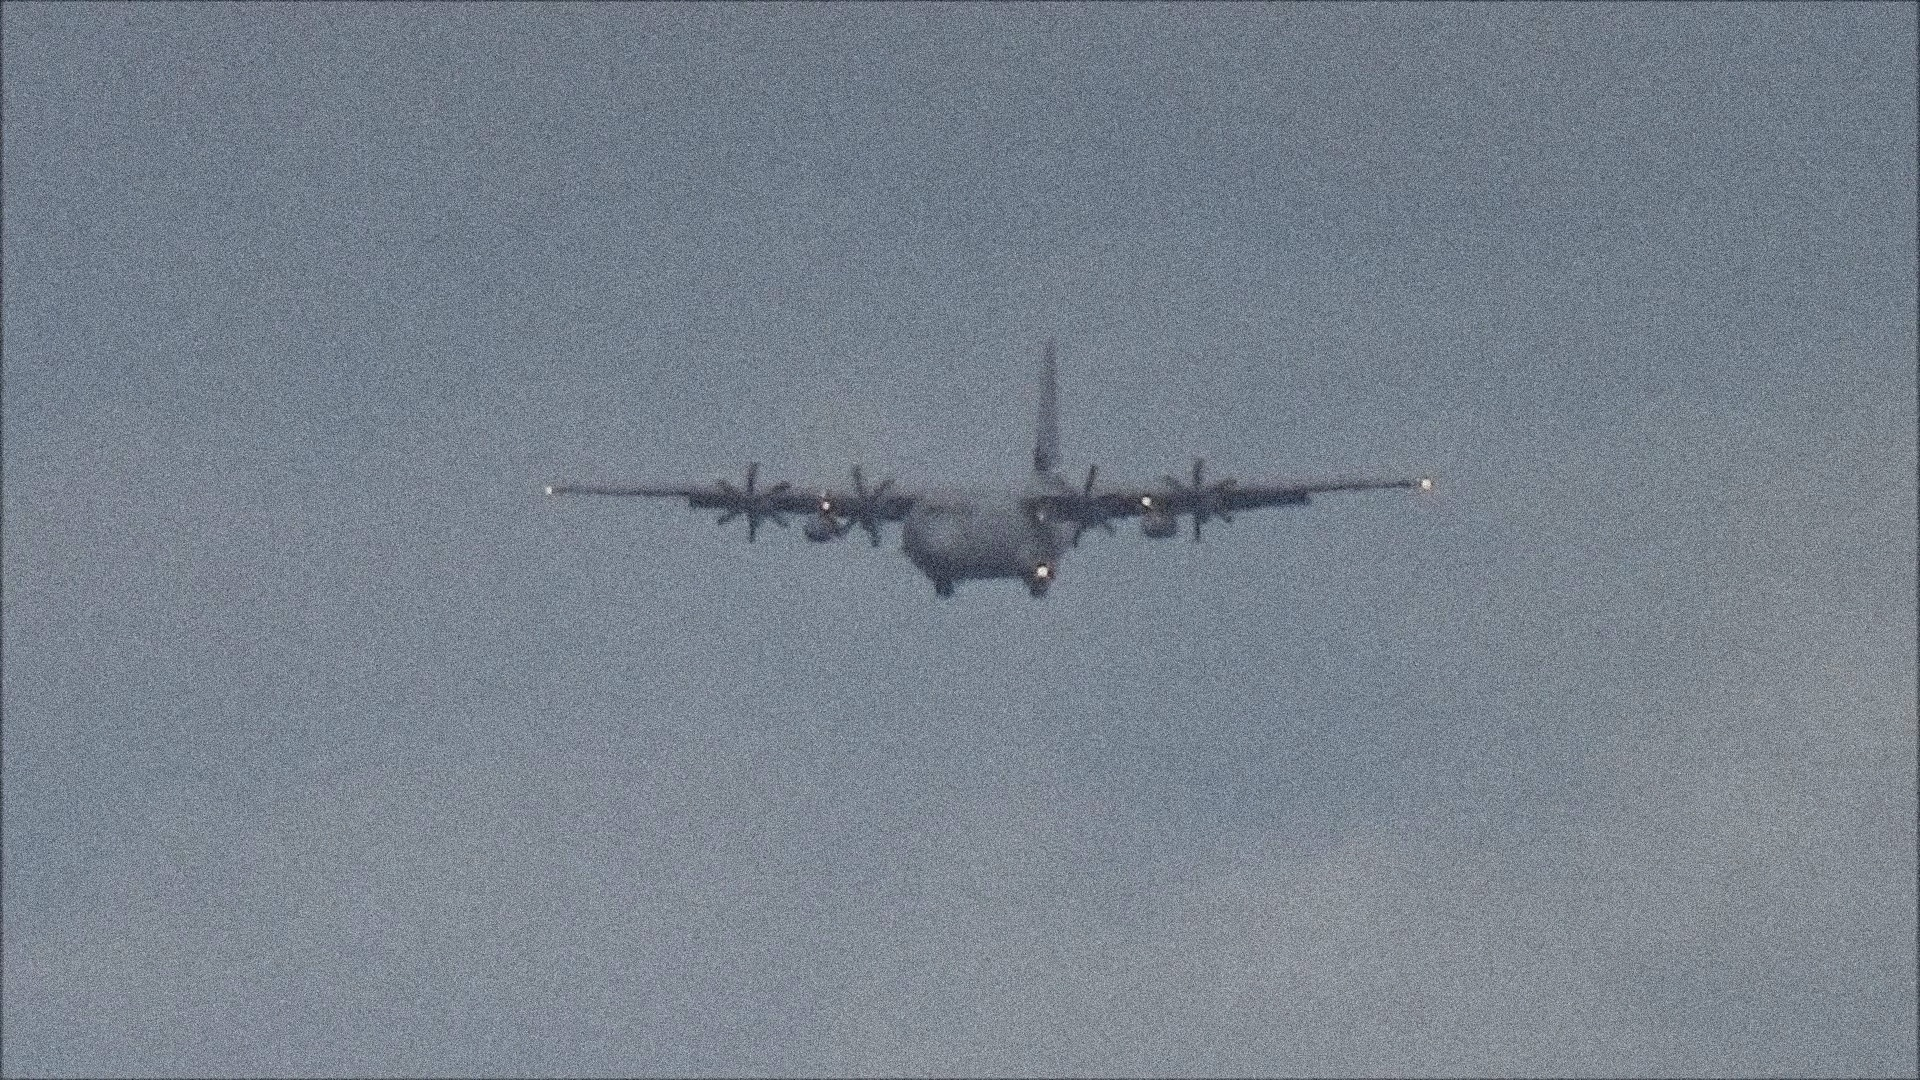Airplane: (545, 338, 1425, 603)
